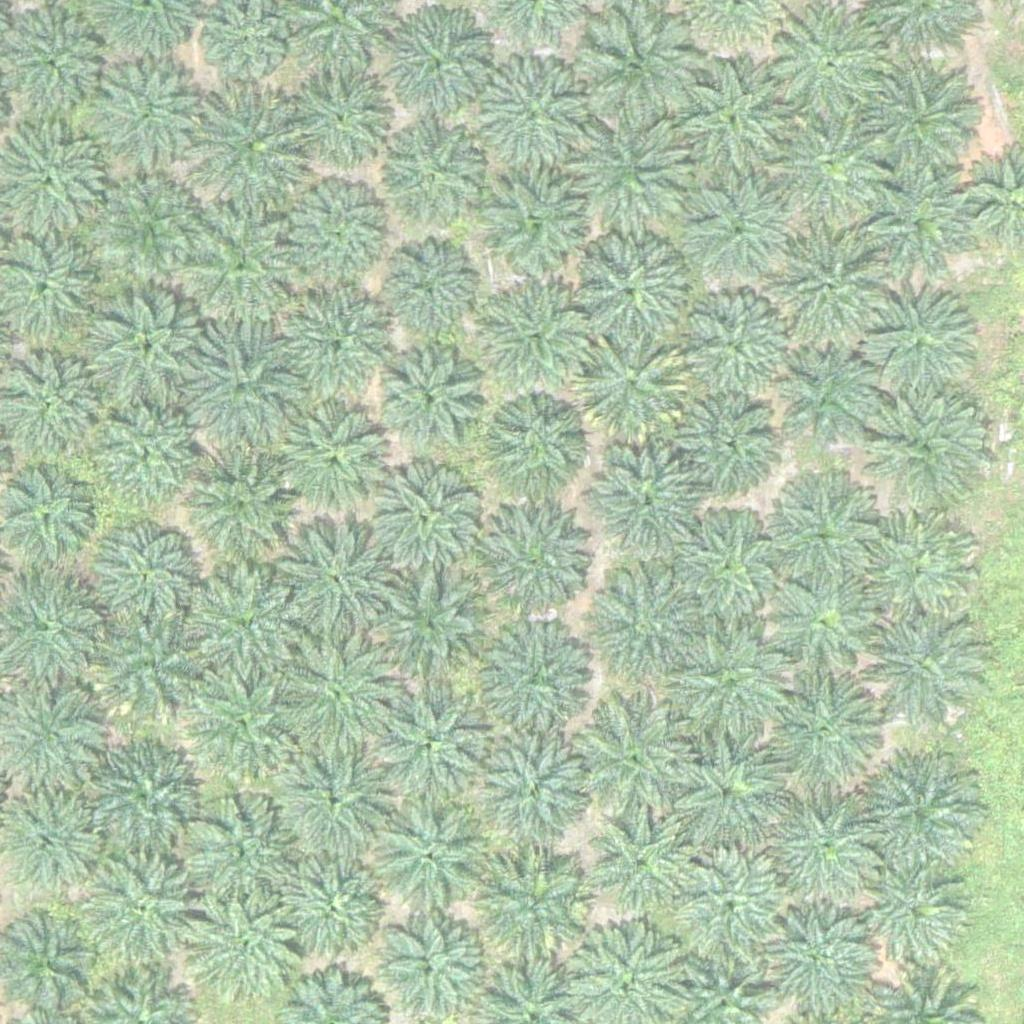Kelapa_Sawit: (856, 61, 981, 187), (862, 282, 987, 408), (861, 378, 986, 504), (763, 230, 888, 356), (770, 102, 895, 228), (762, 5, 887, 131), (667, 62, 792, 188), (565, 234, 690, 360), (559, 113, 684, 239), (583, 9, 708, 135), (474, 161, 599, 287), (176, 331, 301, 457), (191, 85, 316, 211), (87, 294, 212, 420), (762, 470, 887, 596), (669, 506, 794, 632), (856, 508, 981, 634), (82, 735, 207, 861), (78, 846, 203, 972), (186, 891, 311, 1017), (179, 793, 304, 919), (271, 630, 396, 756), (273, 734, 398, 860), (269, 841, 394, 967), (367, 795, 492, 921), (474, 498, 599, 624), (477, 616, 602, 742), (473, 842, 598, 968), (570, 698, 695, 824), (577, 566, 702, 692), (582, 438, 707, 564), (666, 629, 791, 755), (660, 732, 785, 858), (668, 854, 793, 980), (763, 791, 888, 917), (758, 670, 883, 796), (860, 608, 985, 734), (856, 753, 981, 879), (572, 331, 697, 456), (474, 273, 599, 398), (272, 516, 397, 641), (373, 678, 498, 803), (373, 566, 498, 691), (473, 729, 598, 854), (1, 354, 114, 468), (769, 348, 882, 461), (683, 174, 796, 287), (681, 288, 794, 401), (282, 171, 395, 284), (93, 400, 206, 513), (186, 564, 299, 677), (88, 519, 201, 632), (95, 617, 208, 730), (865, 164, 977, 278), (478, 63, 590, 176), (380, 9, 492, 122), (286, 292, 398, 405), (180, 209, 292, 322), (91, 63, 203, 176), (186, 443, 298, 556), (282, 405, 394, 518), (676, 389, 776, 490), (486, 389, 586, 490), (381, 349, 481, 450), (373, 242, 473, 343), (383, 125, 483, 226), (289, 70, 389, 171), (95, 176, 195, 277), (14, 14, 114, 115), (194, 670, 294, 771), (376, 472, 476, 573), (593, 816, 693, 917), (867, 868, 967, 969), (6, 802, 106, 902), (774, 578, 874, 678)
